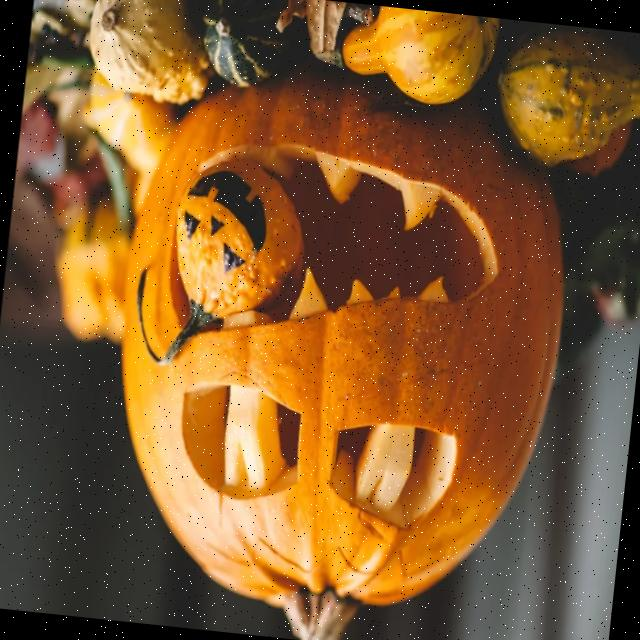pumpkin: (121, 67, 561, 640), (136, 159, 303, 362), (342, 7, 498, 103), (82, 70, 175, 212), (54, 199, 129, 342)
